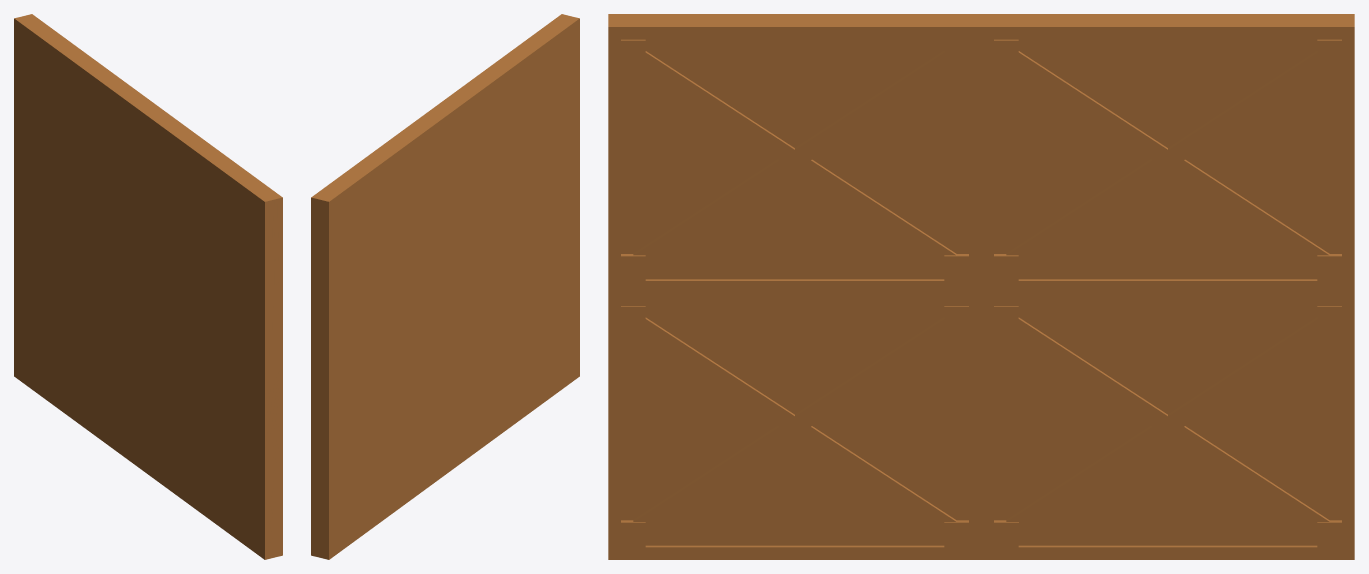
The model's file is 速食店.fbx_wall_back.fbx.
3 views of the same model, side by side, from view 1: azimuth 30°, elevation 25°; view 2: azimuth 150°, elevation 25°; view 3: azimuth 270°, elevation 25° (orthographic). The views are drawn at different scales.
Parts seen in each view (by area): view 1: back wall.001; view 2: back wall.001; view 3: back wall.001.
Part boxes in pixels (box(x1,y1,x2,y2)): back wall.001: box(14, 14, 282, 559); back wall.001: box(311, 14, 579, 559); back wall.001: box(608, 14, 1354, 559).
Size of the model in its own units: 32 by 570 by 723.
